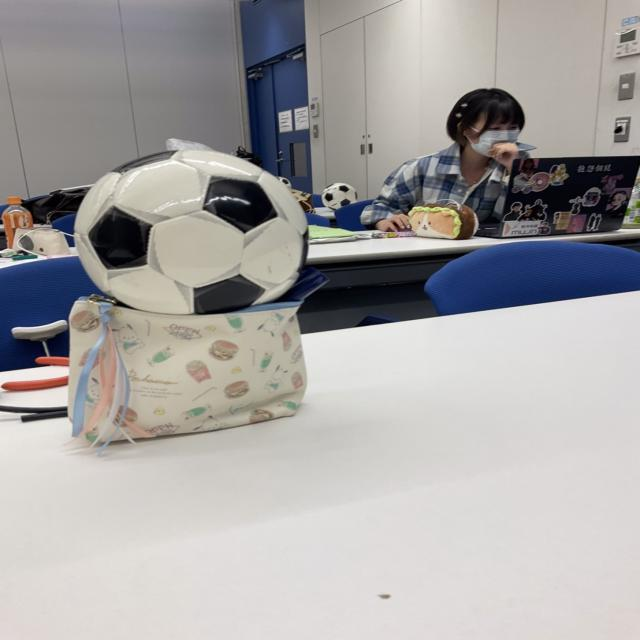ball: (74, 150, 311, 316)
